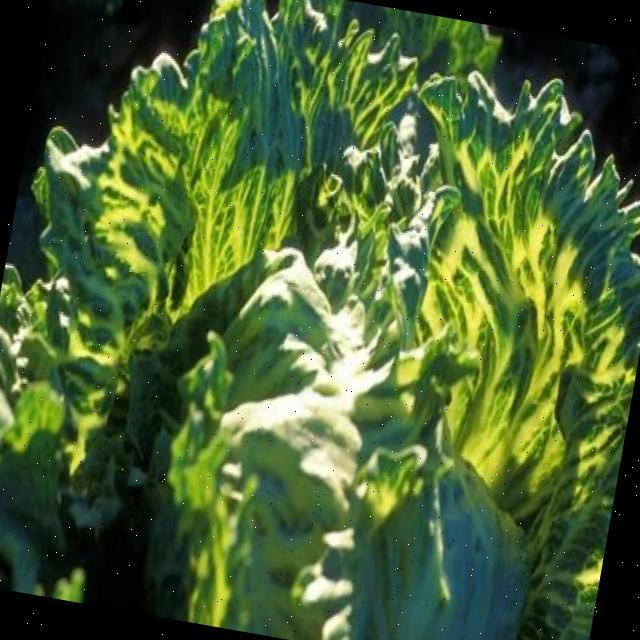Lettuce Mosaic Virus: (36, 111, 601, 640)
